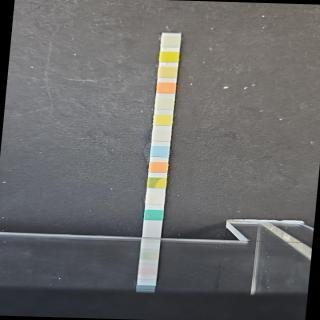mark: (149, 161, 168, 174), (154, 114, 172, 127), (159, 66, 177, 79), (157, 82, 175, 94), (160, 51, 178, 63), (162, 36, 180, 48), (156, 98, 173, 110), (144, 210, 164, 220), (146, 194, 164, 205), (148, 178, 166, 189), (151, 146, 169, 157), (153, 131, 170, 142)
